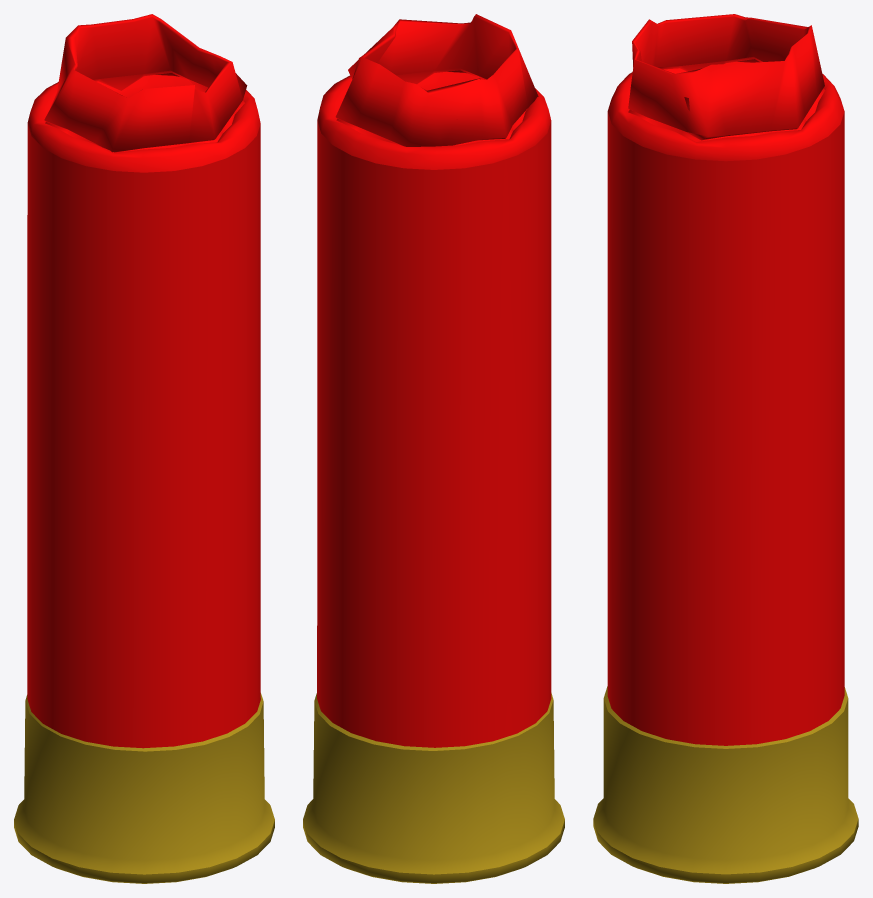
Rendered from shell spent.fbx.
3 views of the same model, side by side, from view 1: azimuth 30°, elevation 25°; view 2: azimuth 150°, elevation 25°; view 3: azimuth 270°, elevation 25° (orthographic).
Visible parts, largest first — view 1: Object001.001; view 2: Object001.001; view 3: Object001.001.
Boxes of the visible parts, x1,y1,x2,y2 form: Object001.001: [14, 14, 274, 883]; Object001.001: [303, 14, 564, 883]; Object001.001: [593, 14, 858, 883].
Bounding box in the file's own units: 14.15 × 46.98 × 14.15.
Materials: 1 (1 with a texture image).
